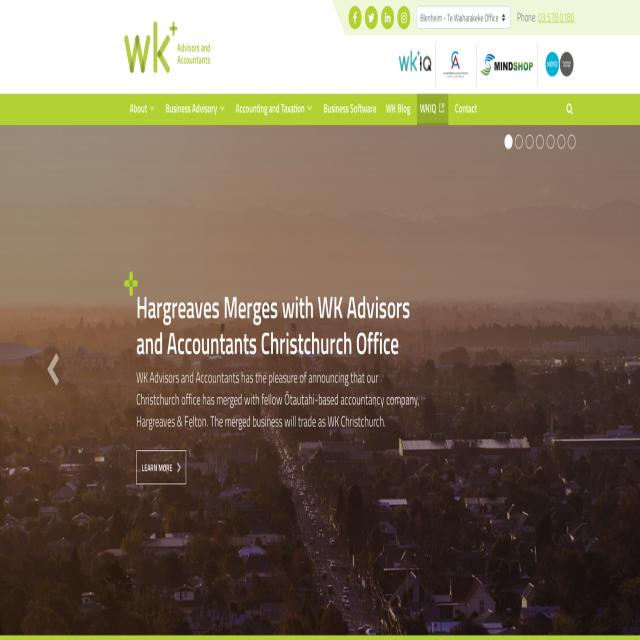button: (126, 0, 213, 89), (476, 42, 536, 86), (232, 94, 316, 125), (162, 94, 230, 125), (537, 42, 581, 86), (435, 42, 476, 86), (320, 94, 380, 123), (136, 450, 186, 484), (395, 42, 435, 80), (40, 344, 67, 396), (127, 94, 159, 125), (417, 94, 448, 125), (382, 94, 413, 123), (452, 94, 480, 123), (562, 94, 577, 123), (348, 6, 362, 29), (364, 6, 378, 29), (381, 6, 394, 29), (398, 6, 410, 29), (504, 134, 513, 150), (546, 134, 554, 150), (568, 134, 576, 150), (558, 134, 566, 150), (536, 134, 544, 149), (515, 134, 523, 149), (526, 134, 534, 149)
field: (416, 6, 511, 29)
